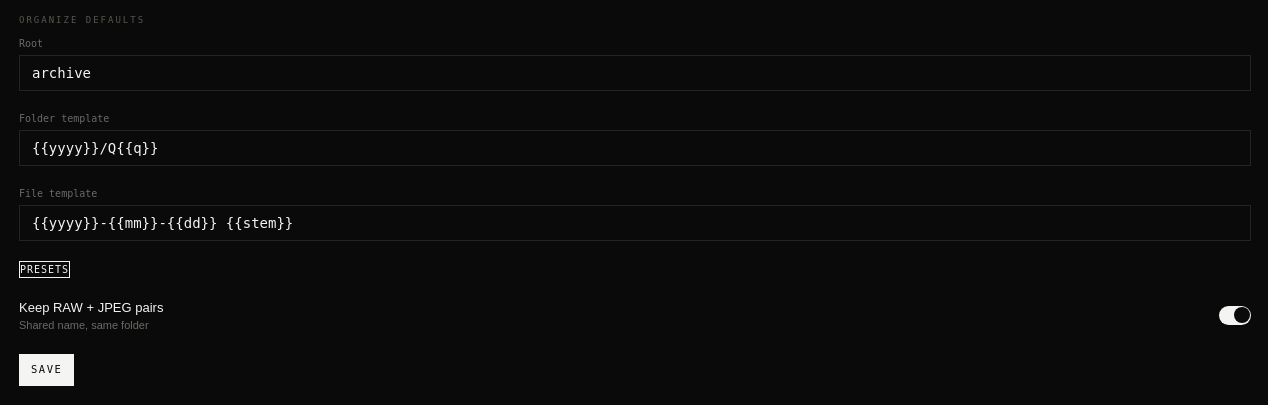
Test case: choosing a preset fills the folder template
Expected: the field named "Default root" is shown, [19,54,1251,90]
Click the button "PRESETS": (45, 269) [19,260,70,278]
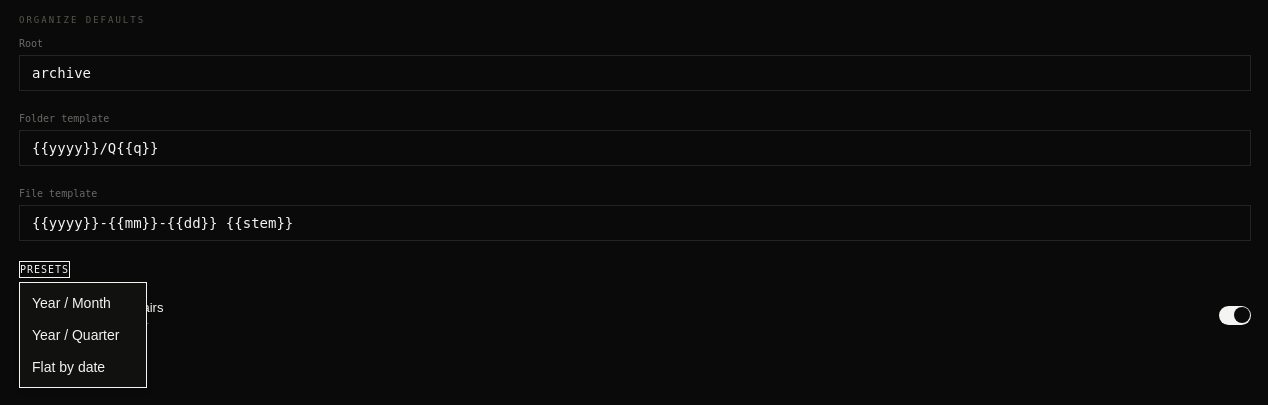
Click the menu item "Flat by date": (69, 367) [32,359,105,375]
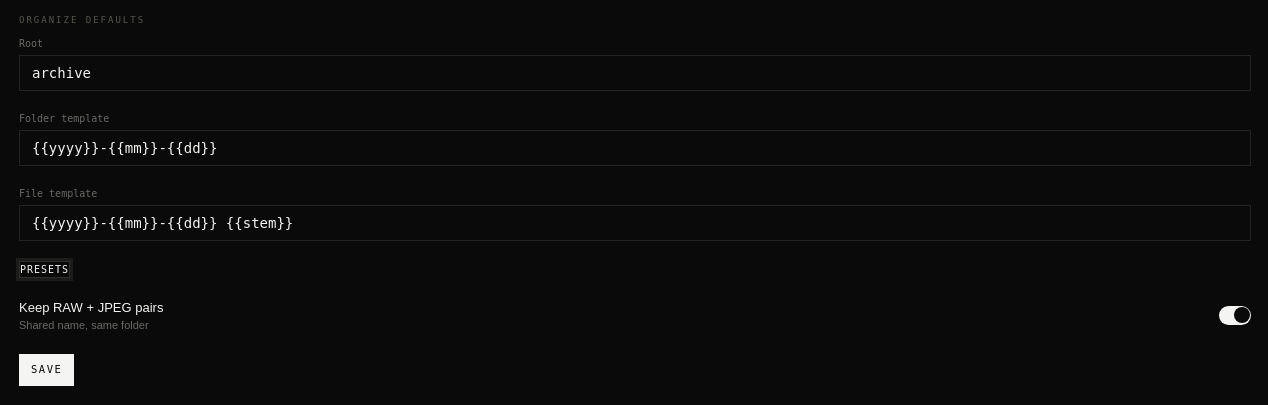
Expected: the field named "Default folder template" holds "{{yyyy}}-{{mm}}-{{dd}}", [19,130,1251,166]
